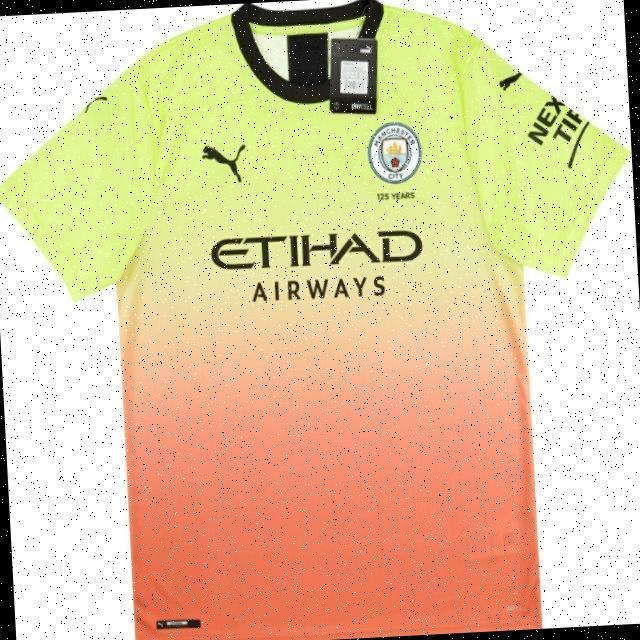Etihad Airways: (208, 223, 428, 307)
Puma: (200, 138, 251, 191)
